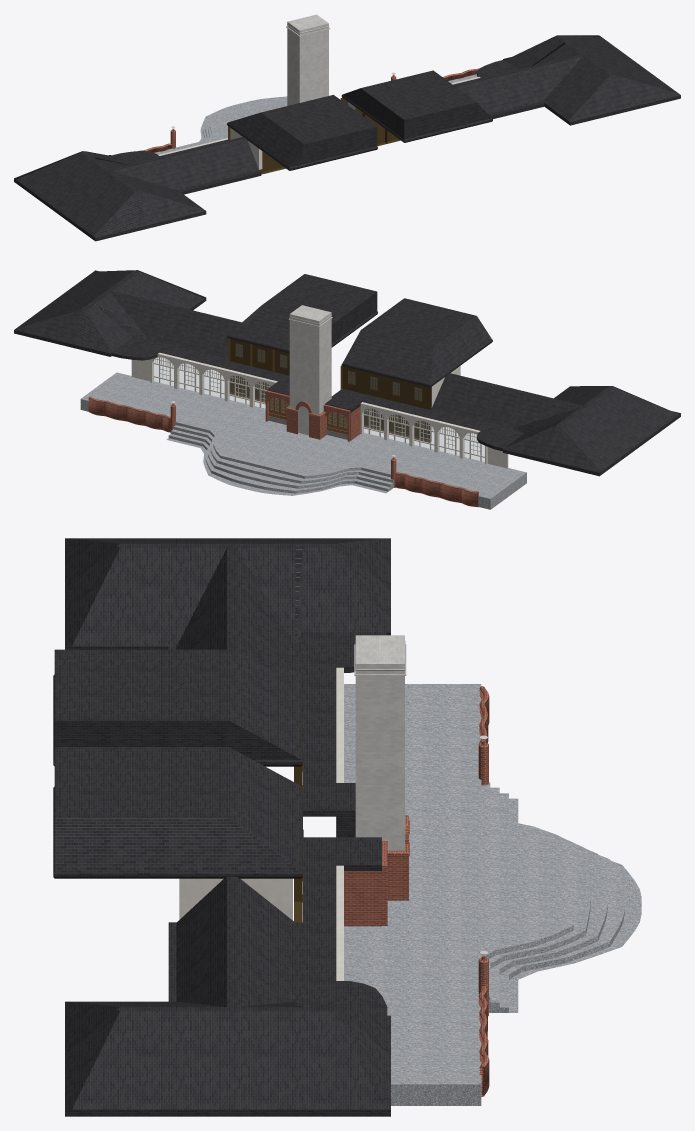
Rendered from library 1.fbx.
The picture shows the model from 3 angles, top to bottom: view 1: azimuth 30°, elevation 25°; view 2: azimuth 150°, elevation 25°; view 3: azimuth 270°, elevation 25°; orthographic projection. The views are drawn at different scales.
Parts seen in each view (by area): view 1: Cube.002; view 2: Cube.002; view 3: Cube.002.
Part boxes in pixels (bbox=[...]): Cube.002: bbox=[14, 14, 680, 241]; Cube.002: bbox=[14, 270, 680, 509]; Cube.002: bbox=[53, 538, 641, 1116].
Size of the model in its own units: 34889 by 7302 by 15180.
9 materials, 7 textured.
